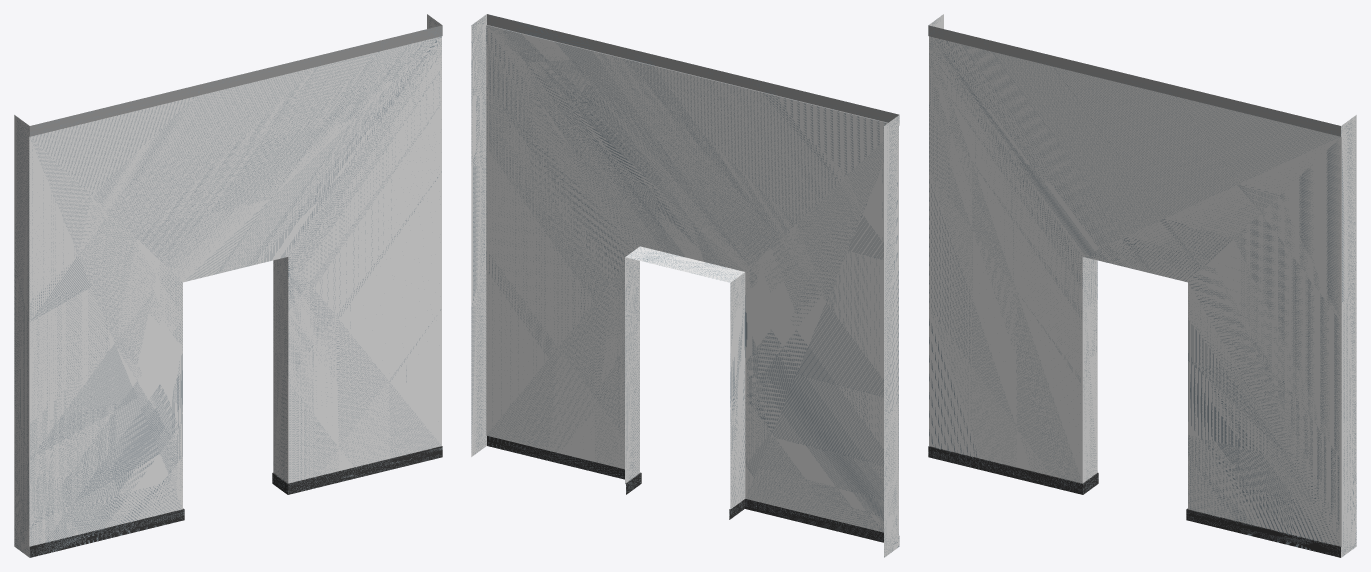
The model's file is BlockWall_os_plinth_[400x400x025]_102x220_doorway.dae.
3 renders of one model, left to right at view 1: azimuth 30°, elevation 25°; view 2: azimuth 150°, elevation 25°; view 3: azimuth 330°, elevation 25°, orthographic.
Parts seen in each view (by area): view 1: group_0 (×4); view 2: group_0 (×4); view 3: group_0 (×4).
Boxes of the visible parts, box(x1,y1,x2,y2) form: group_0 (×4): box(14, 14, 442, 557); group_0 (×4): box(471, 14, 899, 557); group_0 (×4): box(928, 14, 1356, 557).
Bounding box in the file's own units: 157 × 10.24 × 157.
